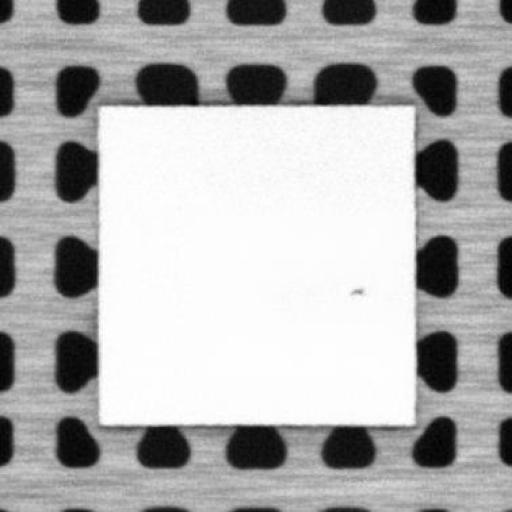DIE_INK: (347, 281, 364, 299)
